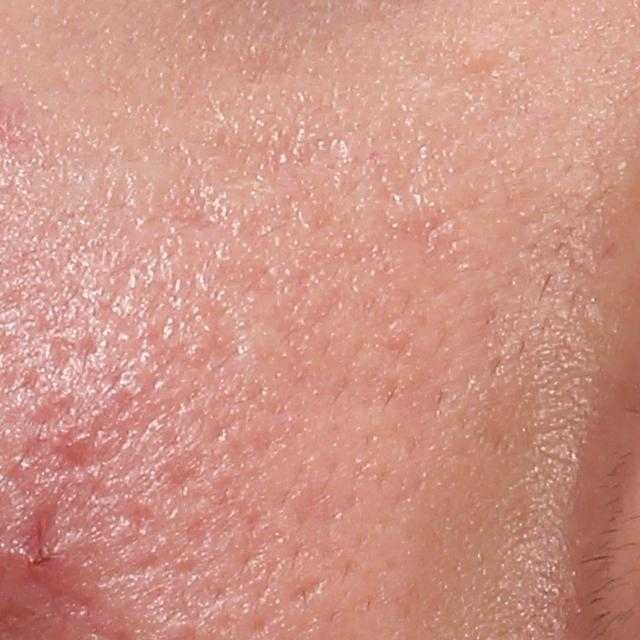atrophic_scar: (20, 500, 61, 561), (287, 573, 326, 608)
